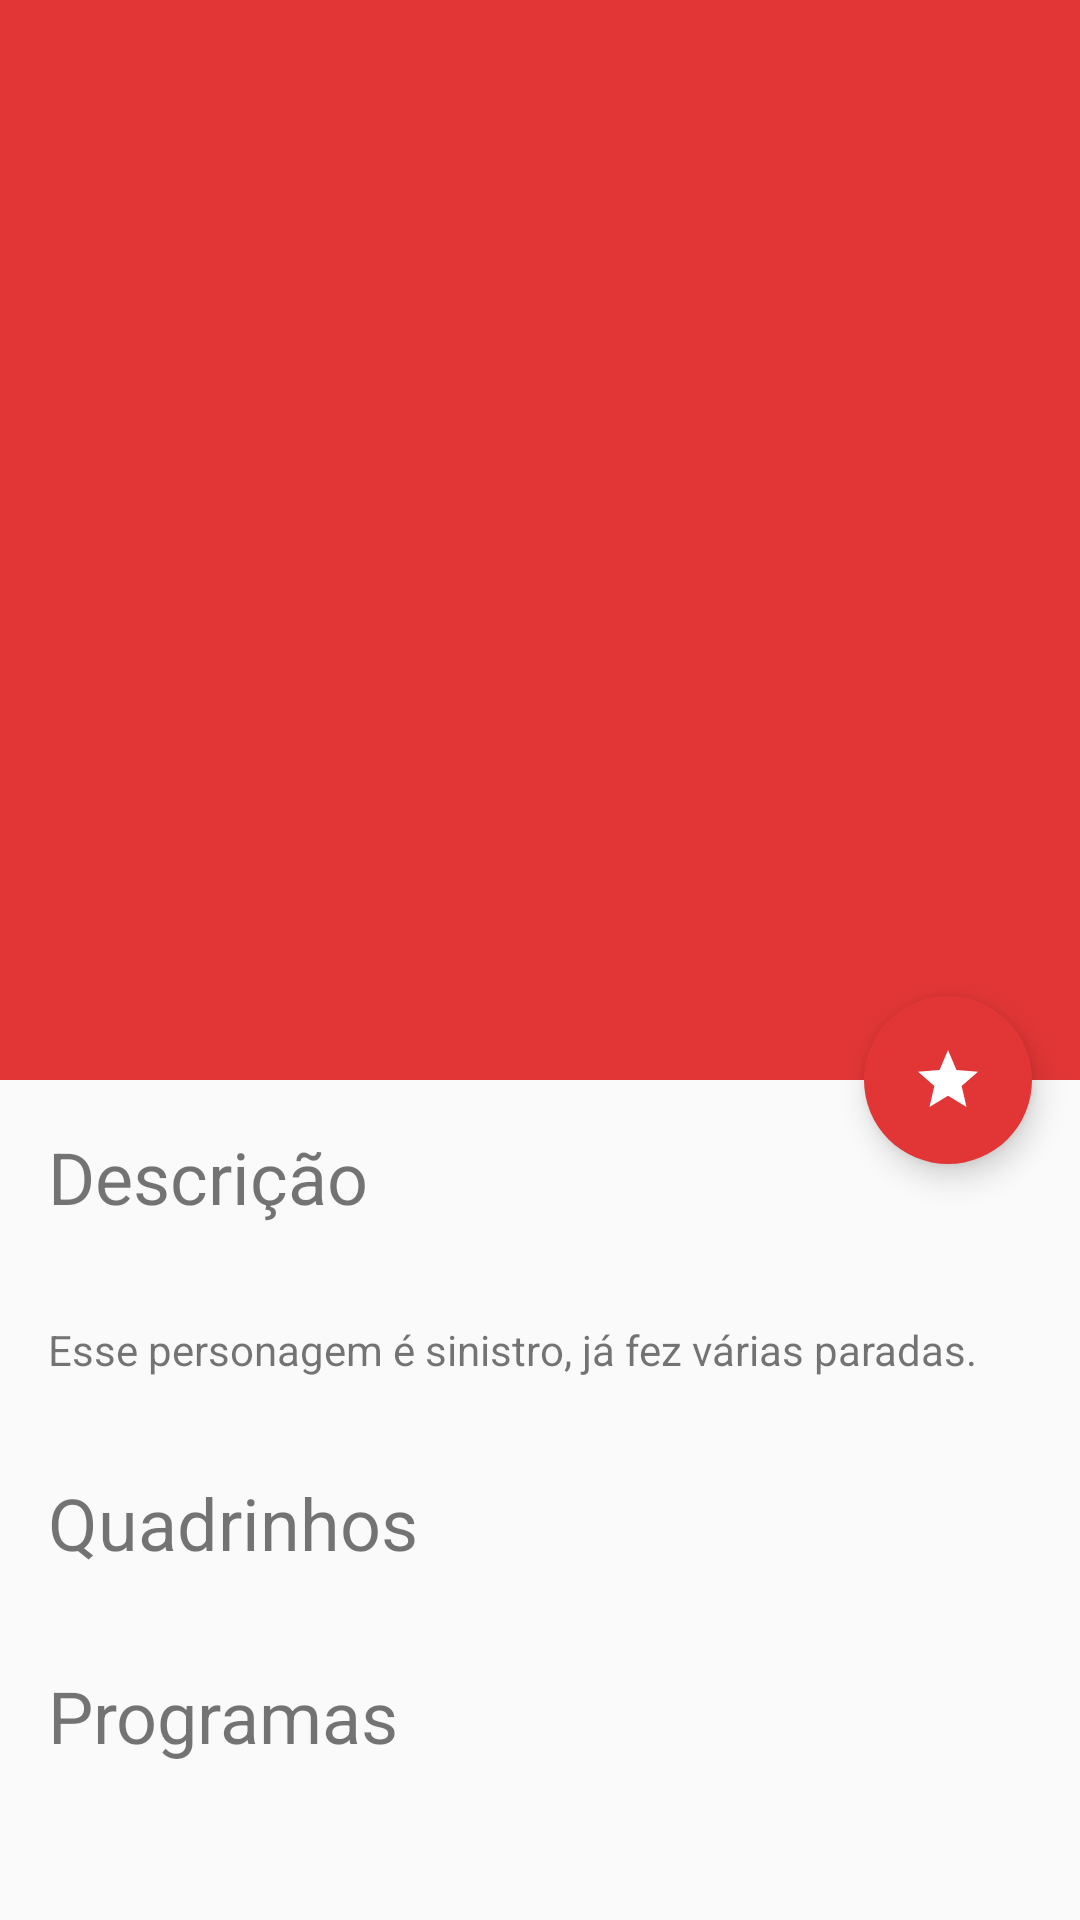

Point at icon controls on the screen. Image size 1080px x 1920px, points as (x=x, y=y).
star: (x=948, y=1080)
